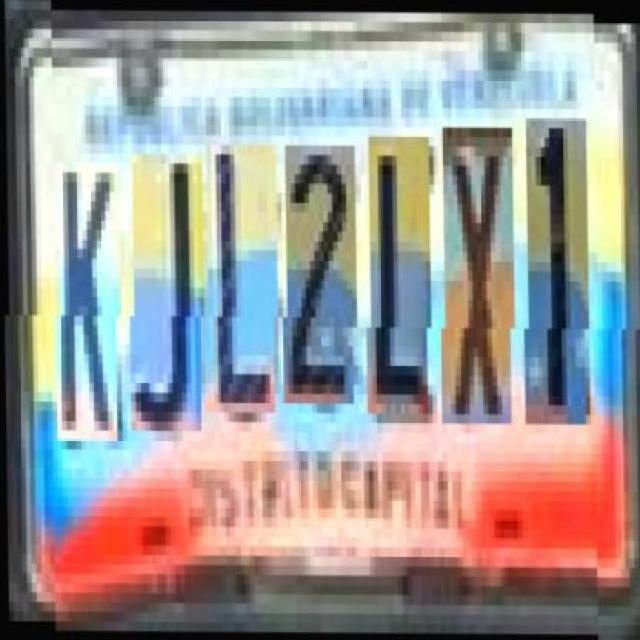1: (525, 118, 589, 424)
2: (284, 145, 358, 403)
j: (131, 154, 204, 431)
k: (57, 163, 121, 440)
l: (206, 145, 280, 412), (367, 136, 431, 413)
x: (442, 127, 516, 424)
